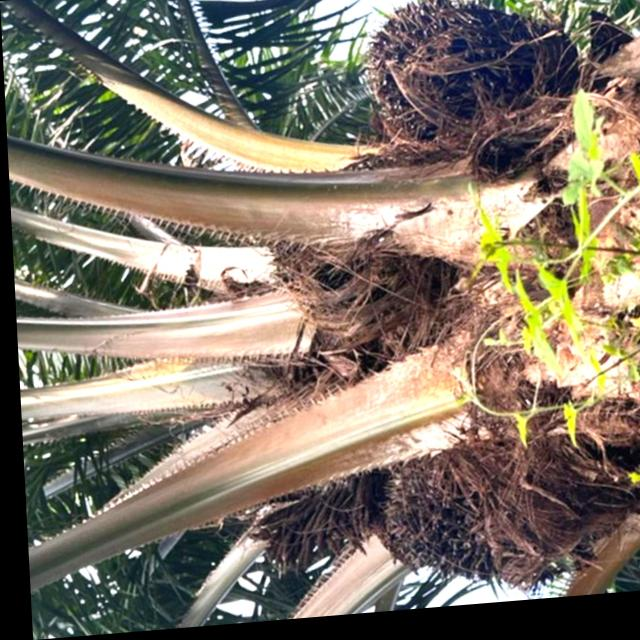unripe: (362, 0, 580, 181), (374, 437, 585, 617)
